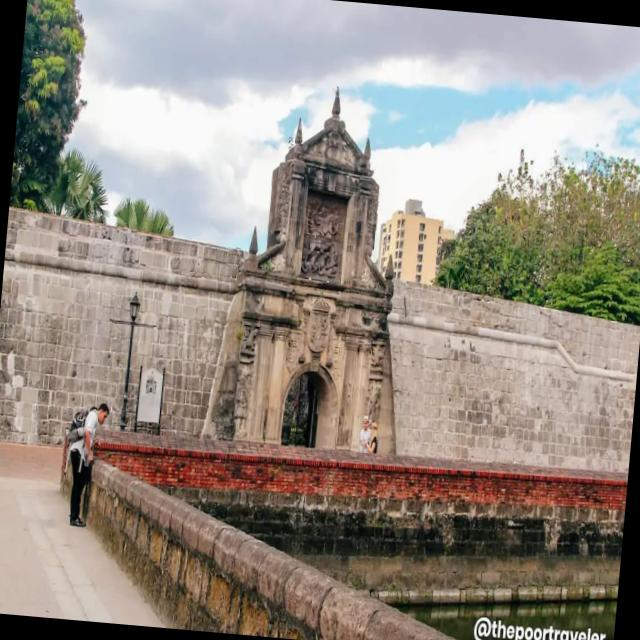Fort Santiago: (0, 90, 640, 478)
